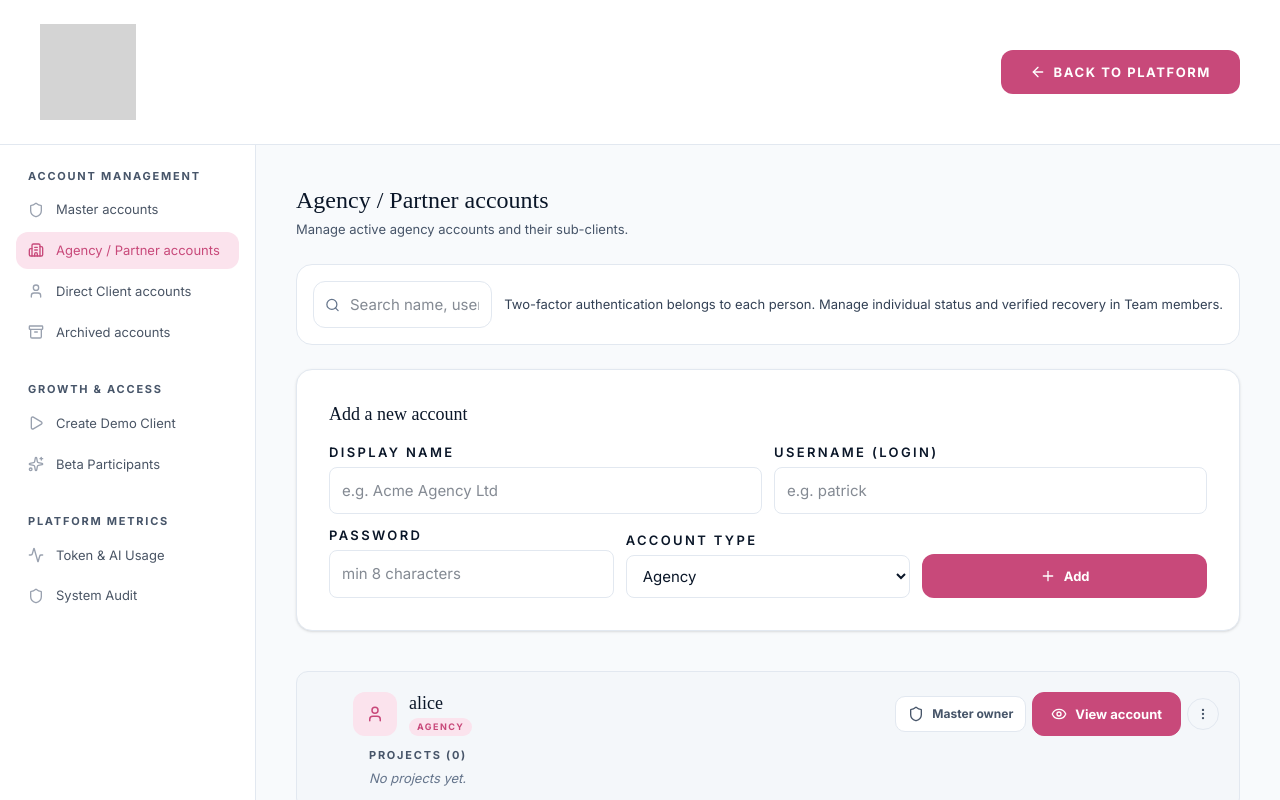
Test case: UsersAdminPage - workspace lists do not imply personal MFA › shows all top-level users when filter is off
The image size is (1280, 800).
Expected: the text "alice" is shown, [409,693,443,713]
Click the button "Archived accounts".
click(128, 332)  # box [16,314,239,350]
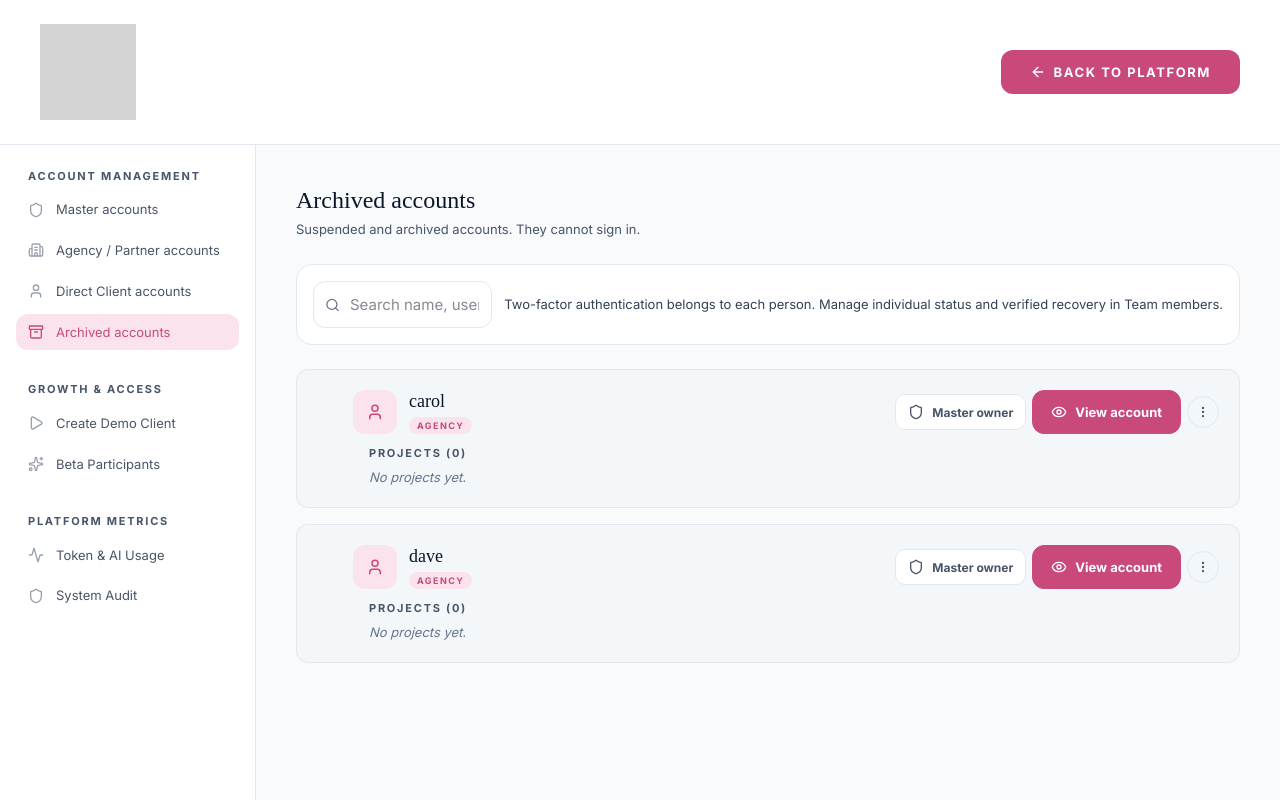
Now the text "carol" is shown, box [409,391,445,411]
Now the text "dave" is shown, box [409,546,443,566]
